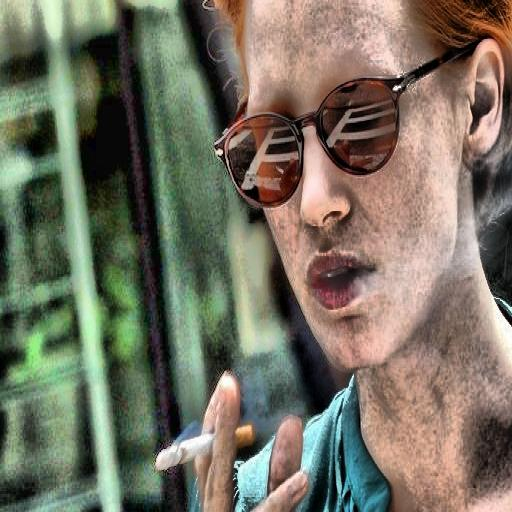Asbak: (155, 422, 212, 469), (236, 422, 255, 445)
Merokok: (157, 379, 308, 512)
